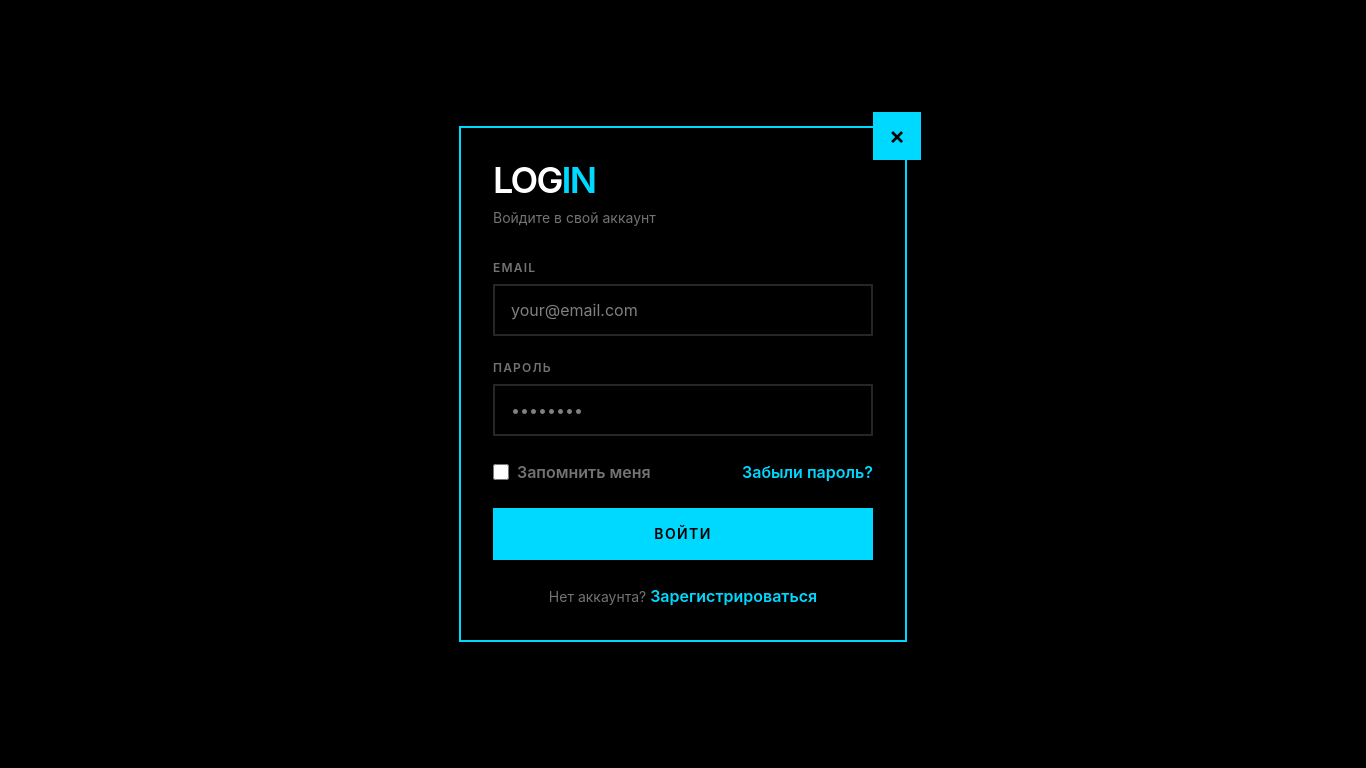
Scenario: LoginModal — forgot password › switches to forgot password form on link click
Click the button "Забыли пароль?" at (808, 472), box [742,460,873,484]
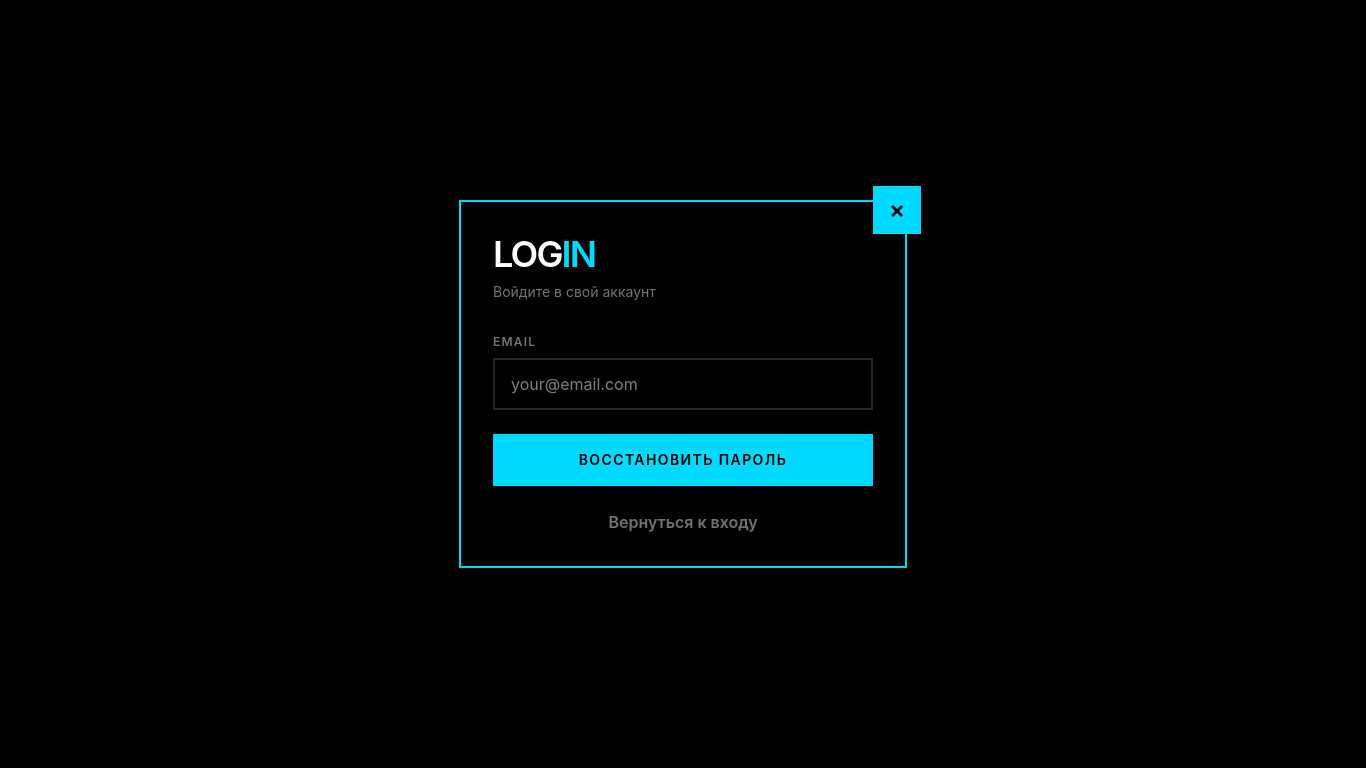
Result: the button "ВОССТАНОВИТЬ ПАРОЛЬ" is shown at [493,434,873,486]
